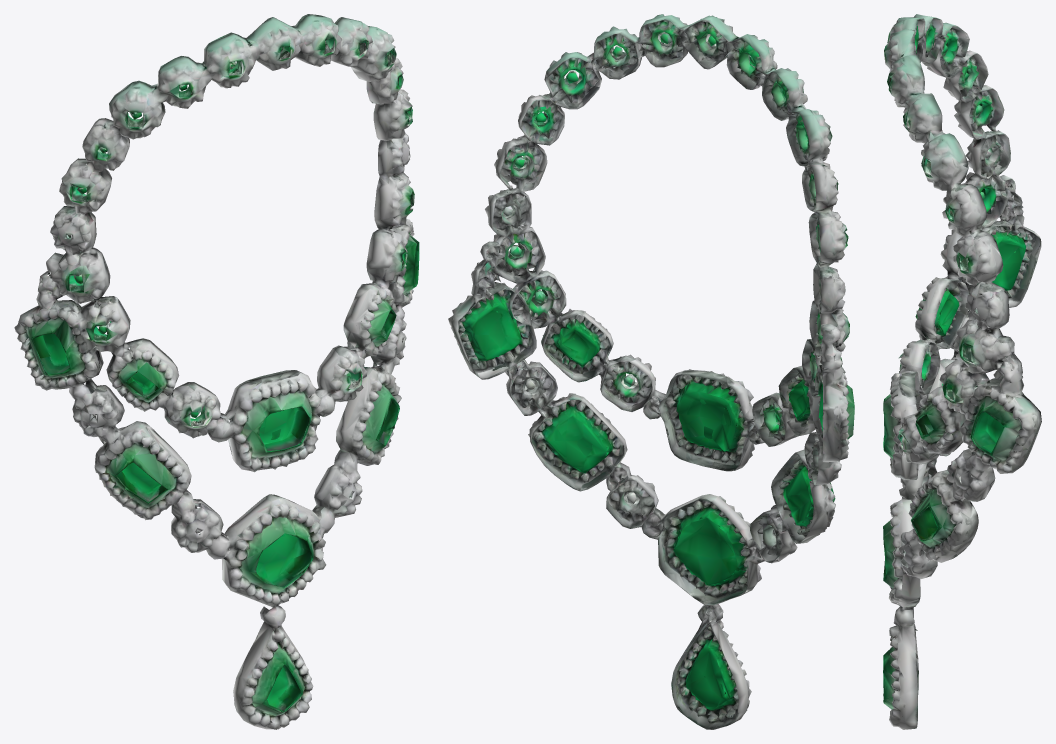
Rendered from emerald-necklace.glb.
3 views of the same model, side by side, from view 1: azimuth 30°, elevation 25°; view 2: azimuth 150°, elevation 25°; view 3: azimuth 270°, elevation 25° (orthographic).
Visible parts, largest first — view 1: emerald-statement-necklace; view 2: emerald-statement-necklace; view 3: emerald-statement-necklace.
Boxes of the visible parts, x1,y1,x2,y2 form: emerald-statement-necklace: (14,14,419,729); emerald-statement-necklace: (448,14,854,729); emerald-statement-necklace: (883,14,1041,729).
Size of the model in its own units: 12.88 by 21.94 by 4.53.
Materials: 1 (1 with a texture image).
